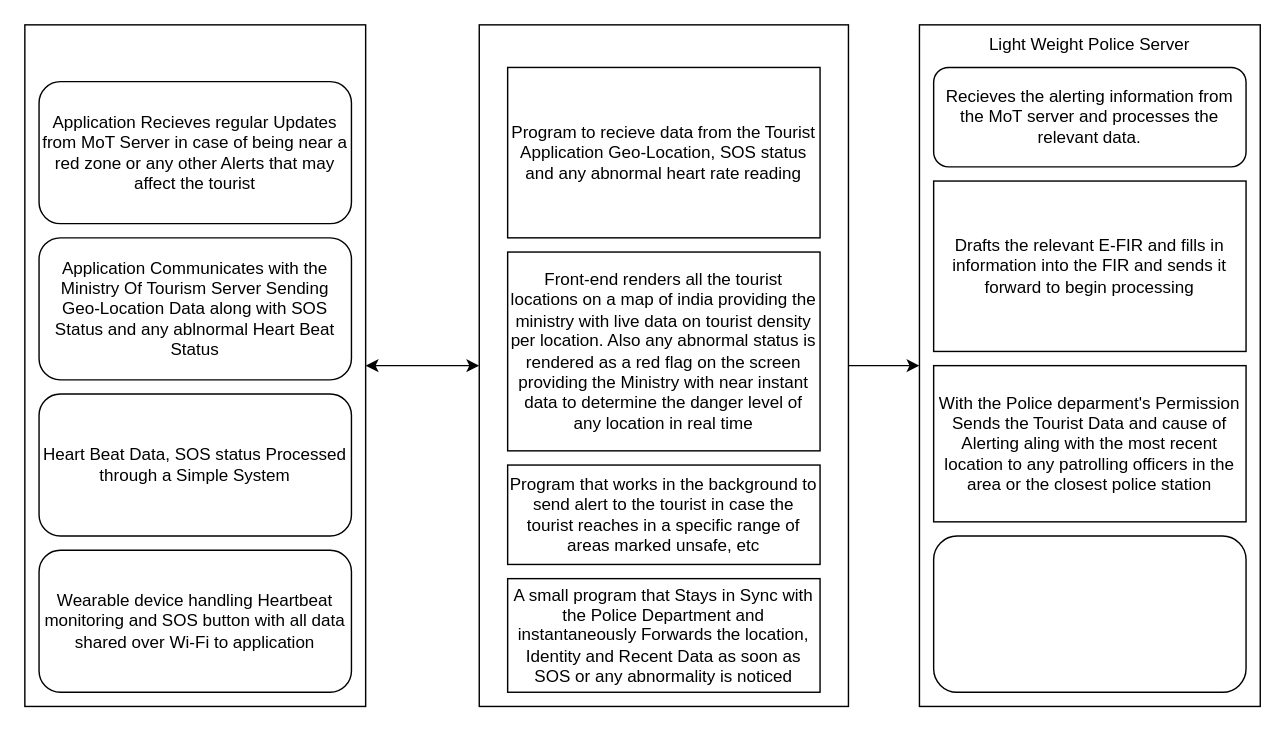
Image size: 1285x731. Some labels were removed from this diagram. The shapes that lost their labels are listed below. From the top down, each one's box as (x1, y1, x2, y2) in pixels, then its label:
(23, 23, 366, 706): Tourist Server/Kuch naam
(478, 23, 848, 706): Ministry Of Tourism Server
(932, 535, 1246, 692): PS padh aur data add karle isme
